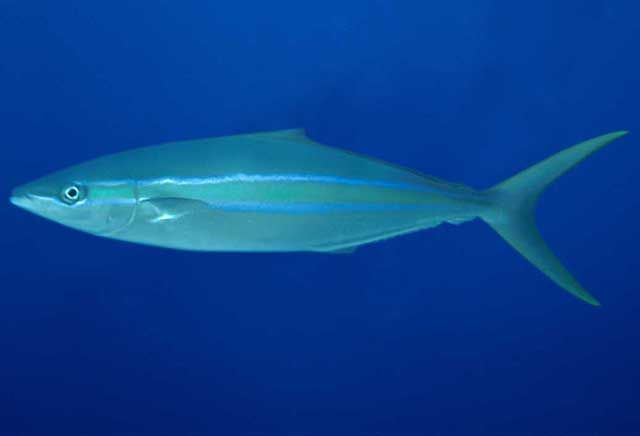fish: (8, 128, 629, 307)
